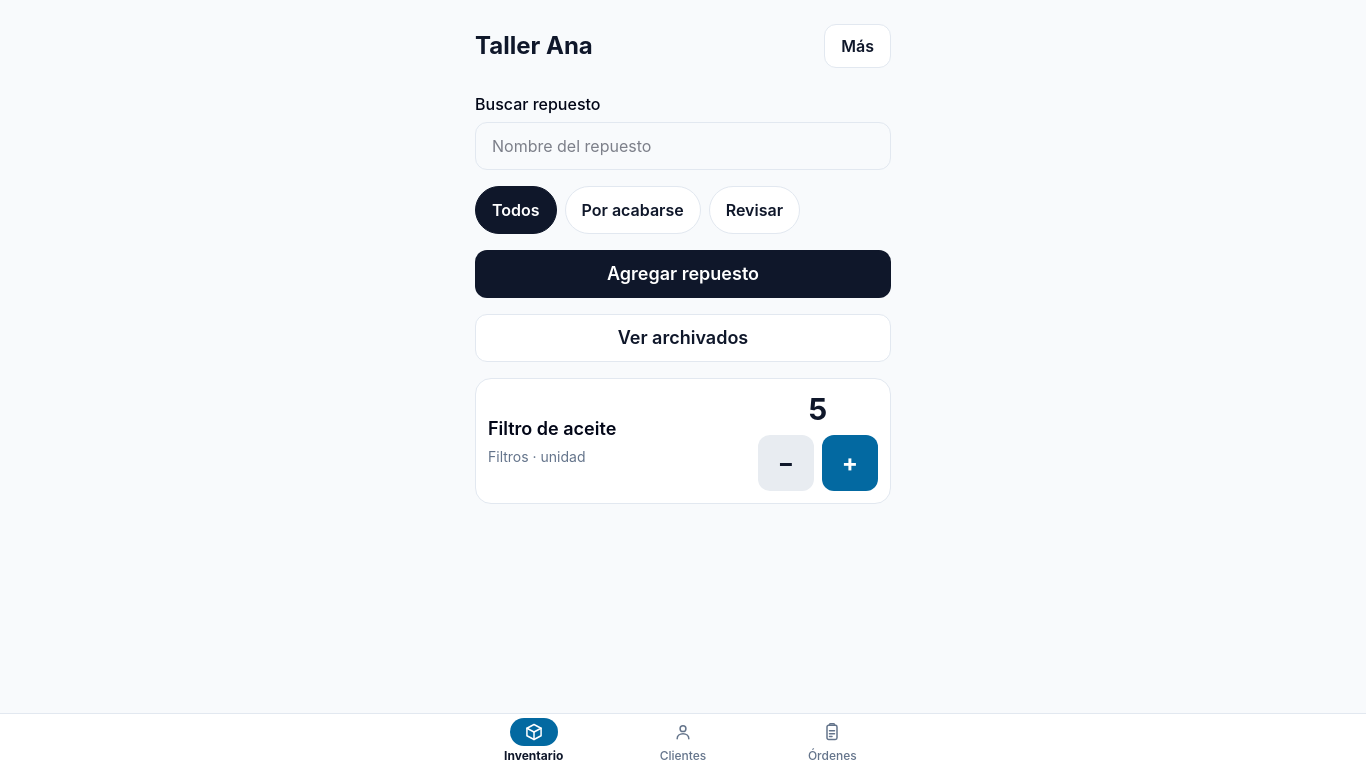
Scenario: InventoryPage › rolls back the stock and shows an error when the movement request fails
Expected: the text "5" is shown, left=808, top=391, right=828, bottom=427
Step 1. Click the button named "Agregar una unidad de Filtro de aceite" → coordinates (850, 463), box left=822, top=435, right=878, bottom=491
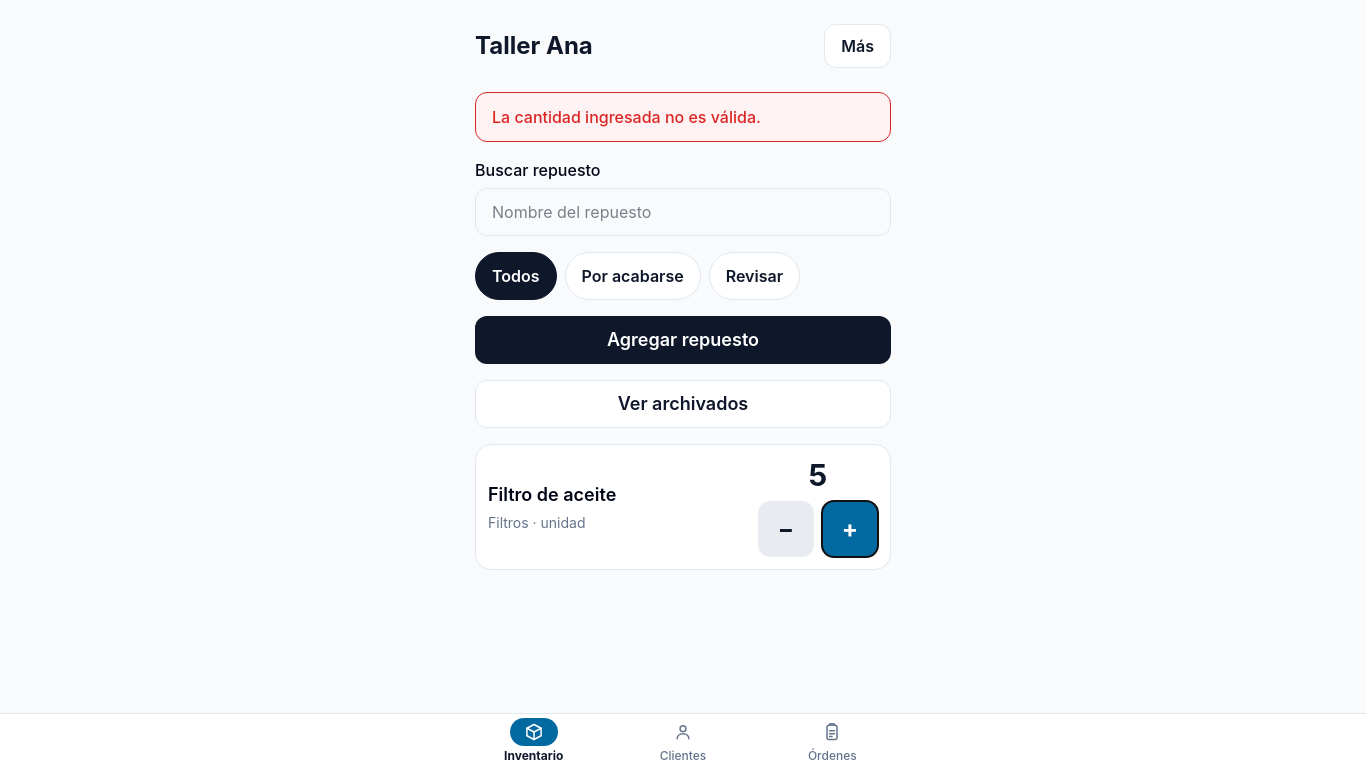
Expected: the text "5" is shown, left=808, top=457, right=828, bottom=493
Expected: the text "La cantidad ingresada no es válida." is shown, left=475, top=92, right=891, bottom=142
